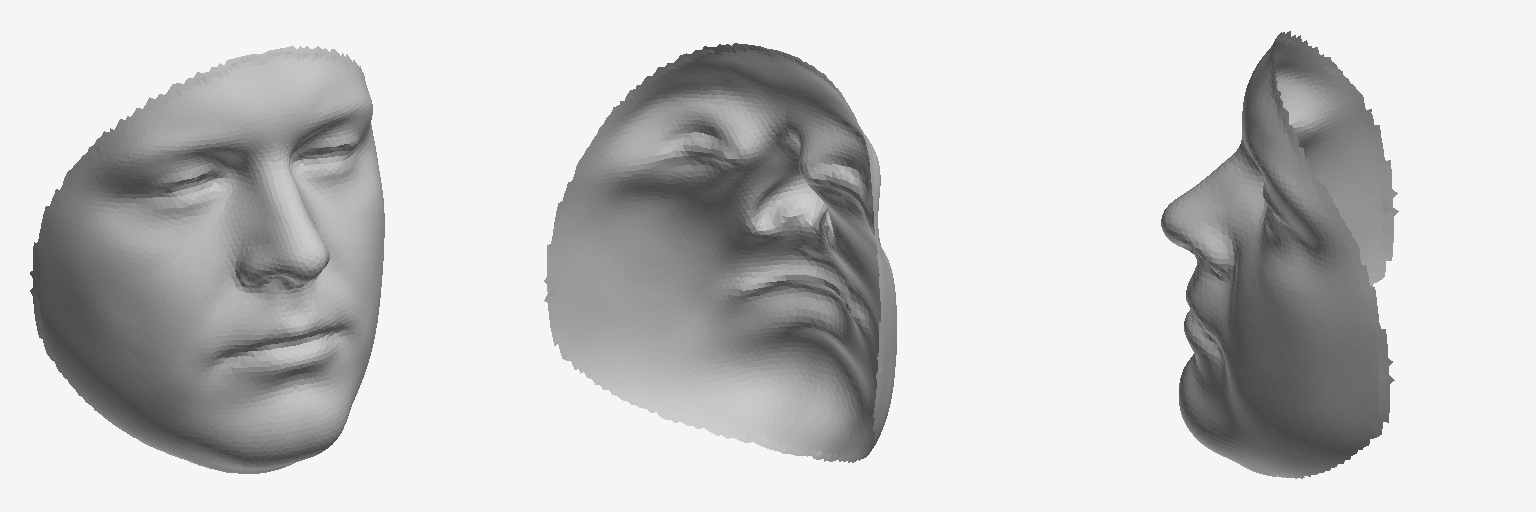
Rendered from SIMPOP_31.obj.
3 views of the same model, side by side, from view 1: azimuth 30°, elevation 25°; view 2: azimuth 150°, elevation 25°; view 3: azimuth 270°, elevation 25° (orthographic).
Parts seen in each view (by area): view 1: SIMPOP_31; view 2: SIMPOP_31; view 3: SIMPOP_31.
Boxes of the visible parts, x1=… form: SIMPOP_31: x1=30, y1=46, x2=384, y2=473; SIMPOP_31: x1=544, y1=43, x2=896, y2=462; SIMPOP_31: x1=1161, y1=31, x2=1398, y2=478.
Bounding box in the file's own units: 150 × 176 × 92.21.